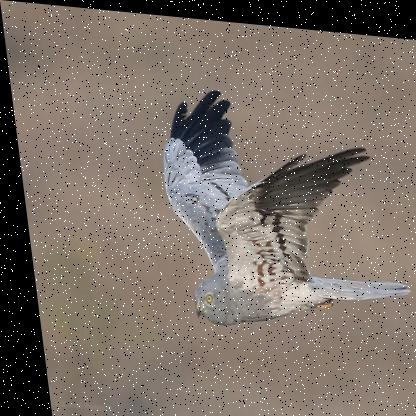Burung: (148, 79, 411, 343)
